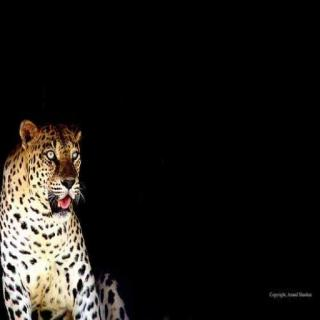Leopard: (19, 89, 150, 320)
